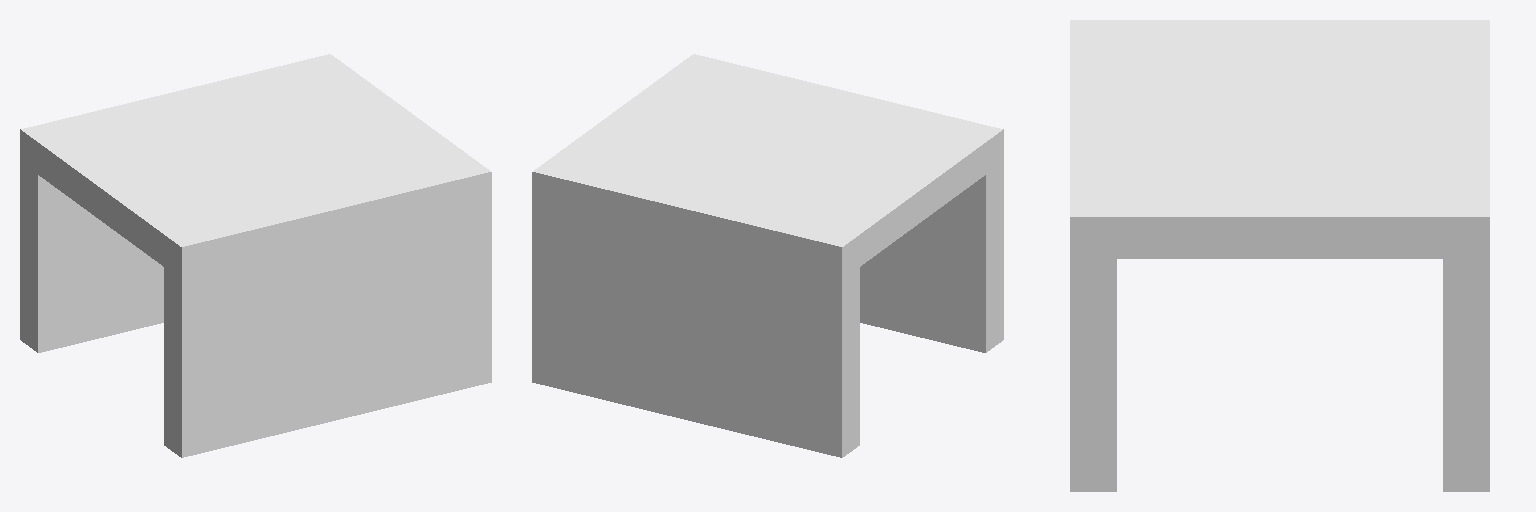
URDF robot description (tabletop):
<robot name="tabletop">
  <link name="base_link">
    <inertial>
      <origin rpy="0 0 0" xyz="0 0 0"/>
      <mass value="1"/>
      <inertia ixx="0.1" ixy="0" ixz="0" iyy="0.1" iyz="0" izz="0.1"/>
    </inertial>
    <visual>
      <origin rpy="0 0 0" xyz="0 0 0.6"/>
      <geometry>
	 			<box size="1 .9 .1"/>
      </geometry>
      <material name="tray_material">
        <color rgba="1 1 1 1"/>
      </material>
    </visual>
     <collision>
      <origin rpy="0 0 0" xyz="0 0 0.6"/>
      <geometry>
	 			<box size="1 .9 .1"/>
      </geometry>
    </collision>

    <visual>
      <origin rpy="0 0 0" xyz="0 -0.4 0.3"/>
      <geometry>
	 			<box size="1 .1 .6"/>
      </geometry>
      <material name="tray_material">
        <color rgba="1 1 1 1"/>
      </material>
    </visual>
     <collision>
      <origin rpy="0 0 0" xyz="0 -0.4 0.3"/>
      <geometry>
	 			<box size="1 .1 .6"/>
      </geometry>
    </collision>

    <visual>
      <origin rpy="0 0 0" xyz="0 0.4 0.3"/>
      <geometry>
	 			<box size="1 .1 .6"/>
      </geometry>
      <material name="tray_material">
        <color rgba="1 1 1 1"/>
      </material>
    </visual>
     <collision>
      <origin rpy="0 0 0" xyz="0 0.4 0.3"/>
      <geometry>
	 			<box size="1 .1 .6"/>
      </geometry>
    </collision>
  </link>
</robot>

--- Render facts (derived) ---
Views: 3 orthographic renders of the robot side by side, from view 1: azimuth 30°, elevation 25°; view 2: azimuth 150°, elevation 25°; view 3: azimuth 270°, elevation 25°.
Robot: tabletop — 1 links, 0 joints (none); root link base_link; default pose: all joints at 0.
Links seen in each view (by area): view 1: base_link; view 2: base_link; view 3: base_link.
Boxes of the visible links, x1,y1,x2,y2 form: base_link: (20, 54, 491, 457); base_link: (532, 54, 1003, 457); base_link: (1070, 20, 1489, 491).
Size in the robot's own frame: 1 by 0.9 by 0.65 metres.
Geometry: primitives only (box / cylinder / sphere), no mesh files.